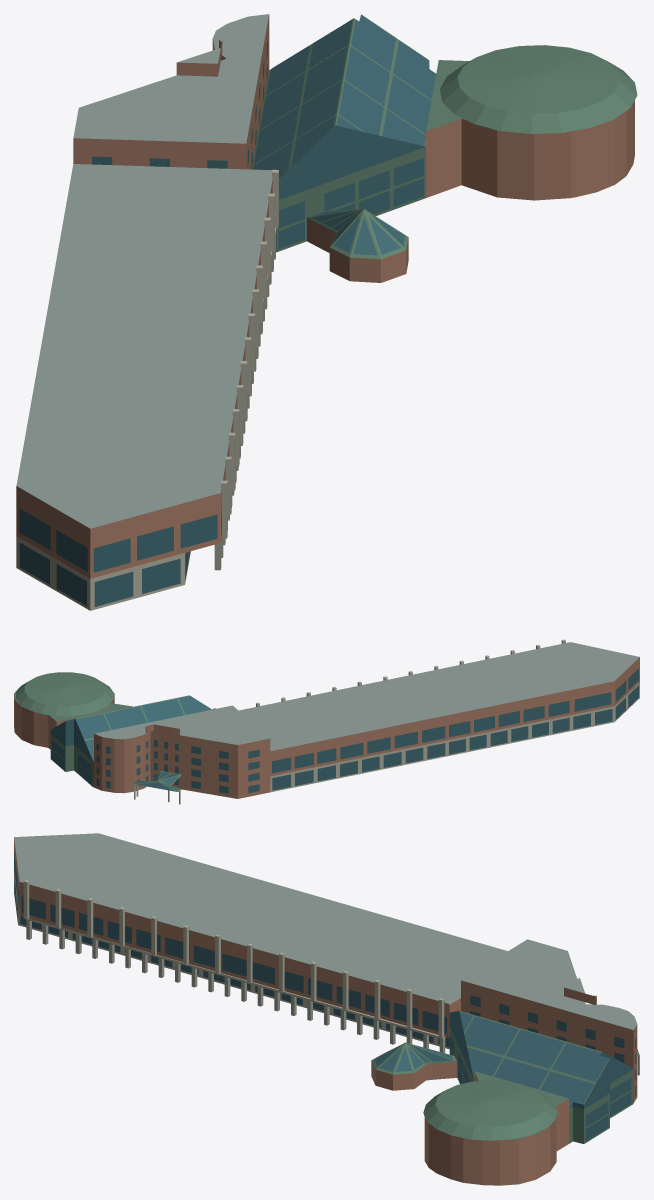
Rendered from markham-civic-centre-far.glb.
The picture shows the model from 3 angles, top to bottom: view 1: azimuth 30°, elevation 25°; view 2: azimuth 150°, elevation 25°; view 3: azimuth 270°, elevation 25°; orthographic projection. The views are drawn at different scales.
Visible parts, largest first — view 1: markham-civic-centre-0-roof, markham-civic-centre-0-glass, markham-civic-centre-0-cladding, markham-civic-centre-0-copper, markham-civic-centre-0-stone, markham-civic-centre-0-column; view 2: markham-civic-centre-0-roof, markham-civic-centre-0-cladding, markham-civic-centre-0-glass, markham-civic-centre-0-copper, markham-civic-centre-0-stone; view 3: markham-civic-centre-0-roof, markham-civic-centre-0-cladding, markham-civic-centre-0-glass, markham-civic-centre-0-copper, markham-civic-centre-0-stone, markham-civic-centre-0-column.
Part boxes in pixels (left/top/right/bottom): markham-civic-centre-0-roof: left=16, top=14, right=272, bottom=528; markham-civic-centre-0-glass: left=19, top=15, right=436, bottom=606; markham-civic-centre-0-cladding: left=16, top=14, right=634, bottom=578; markham-civic-centre-0-copper: left=251, top=14, right=637, bottom=259; markham-civic-centre-0-stone: left=16, top=169, right=278, bottom=610; markham-civic-centre-0-column: left=214, top=234, right=275, bottom=570; markham-civic-centre-0-roof: left=94, top=642, right=639, bottom=751; markham-civic-centre-0-cladding: left=14, top=657, right=639, bottom=798; markham-civic-centre-0-glass: left=50, top=668, right=638, bottom=793; markham-civic-centre-0-copper: left=14, top=672, right=215, bottom=791; markham-civic-centre-0-stone: left=256, top=639, right=639, bottom=792; markham-civic-centre-0-roof: left=14, top=833, right=637, bottom=1029; markham-civic-centre-0-cladding: left=14, top=838, right=637, bottom=1185; markham-civic-centre-0-glass: left=14, top=852, right=637, bottom=1140; markham-civic-centre-0-copper: left=371, top=1011, right=639, bottom=1143; markham-civic-centre-0-stone: left=14, top=872, right=449, bottom=1049; markham-civic-centre-0-column: left=26, top=920, right=639, bottom=1075.
Size of the model in its own units: 146 by 18.8 by 130.
